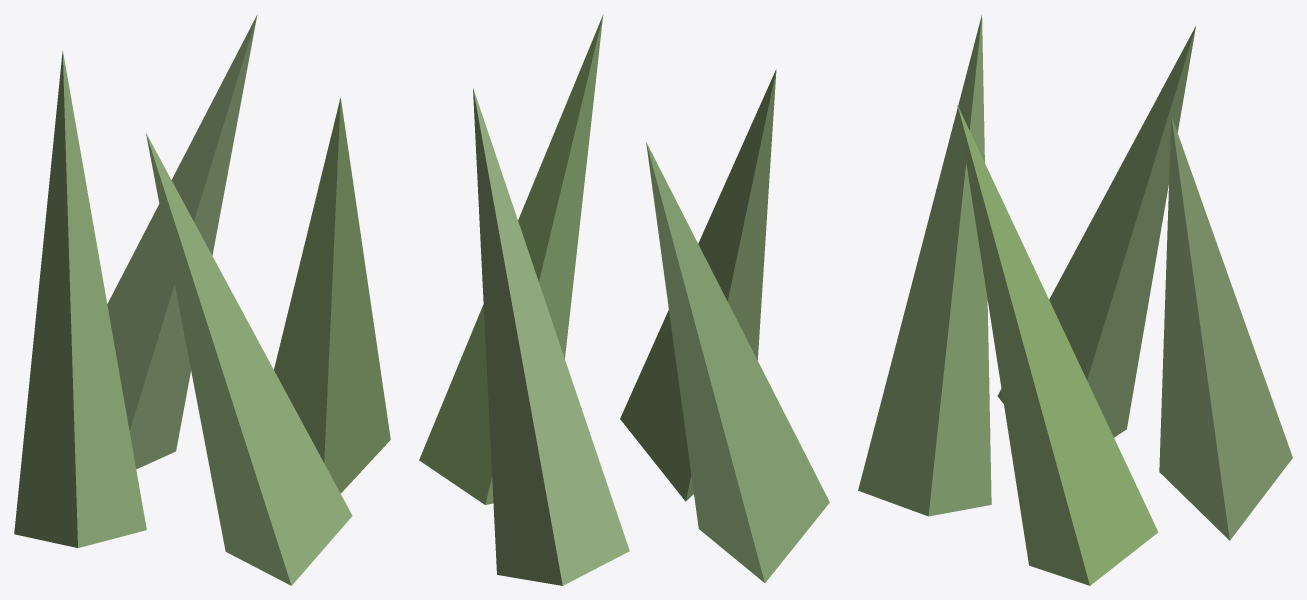
File: grass.glb
3 views of the same model, side by side, from view 1: azimuth 30°, elevation 25°; view 2: azimuth 150°, elevation 25°; view 3: azimuth 270°, elevation 25° (orthographic).
Visible parts, largest first — view 1: grass2; view 2: grass2; view 3: grass2.
Boxes of the visible parts, x1,y1,x2,y2 form: grass2: (14, 14, 390, 585); grass2: (419, 14, 829, 585); grass2: (858, 15, 1292, 585).
Bounding box in the file's own units: 0.3778 × 0.4504 × 0.3919.
